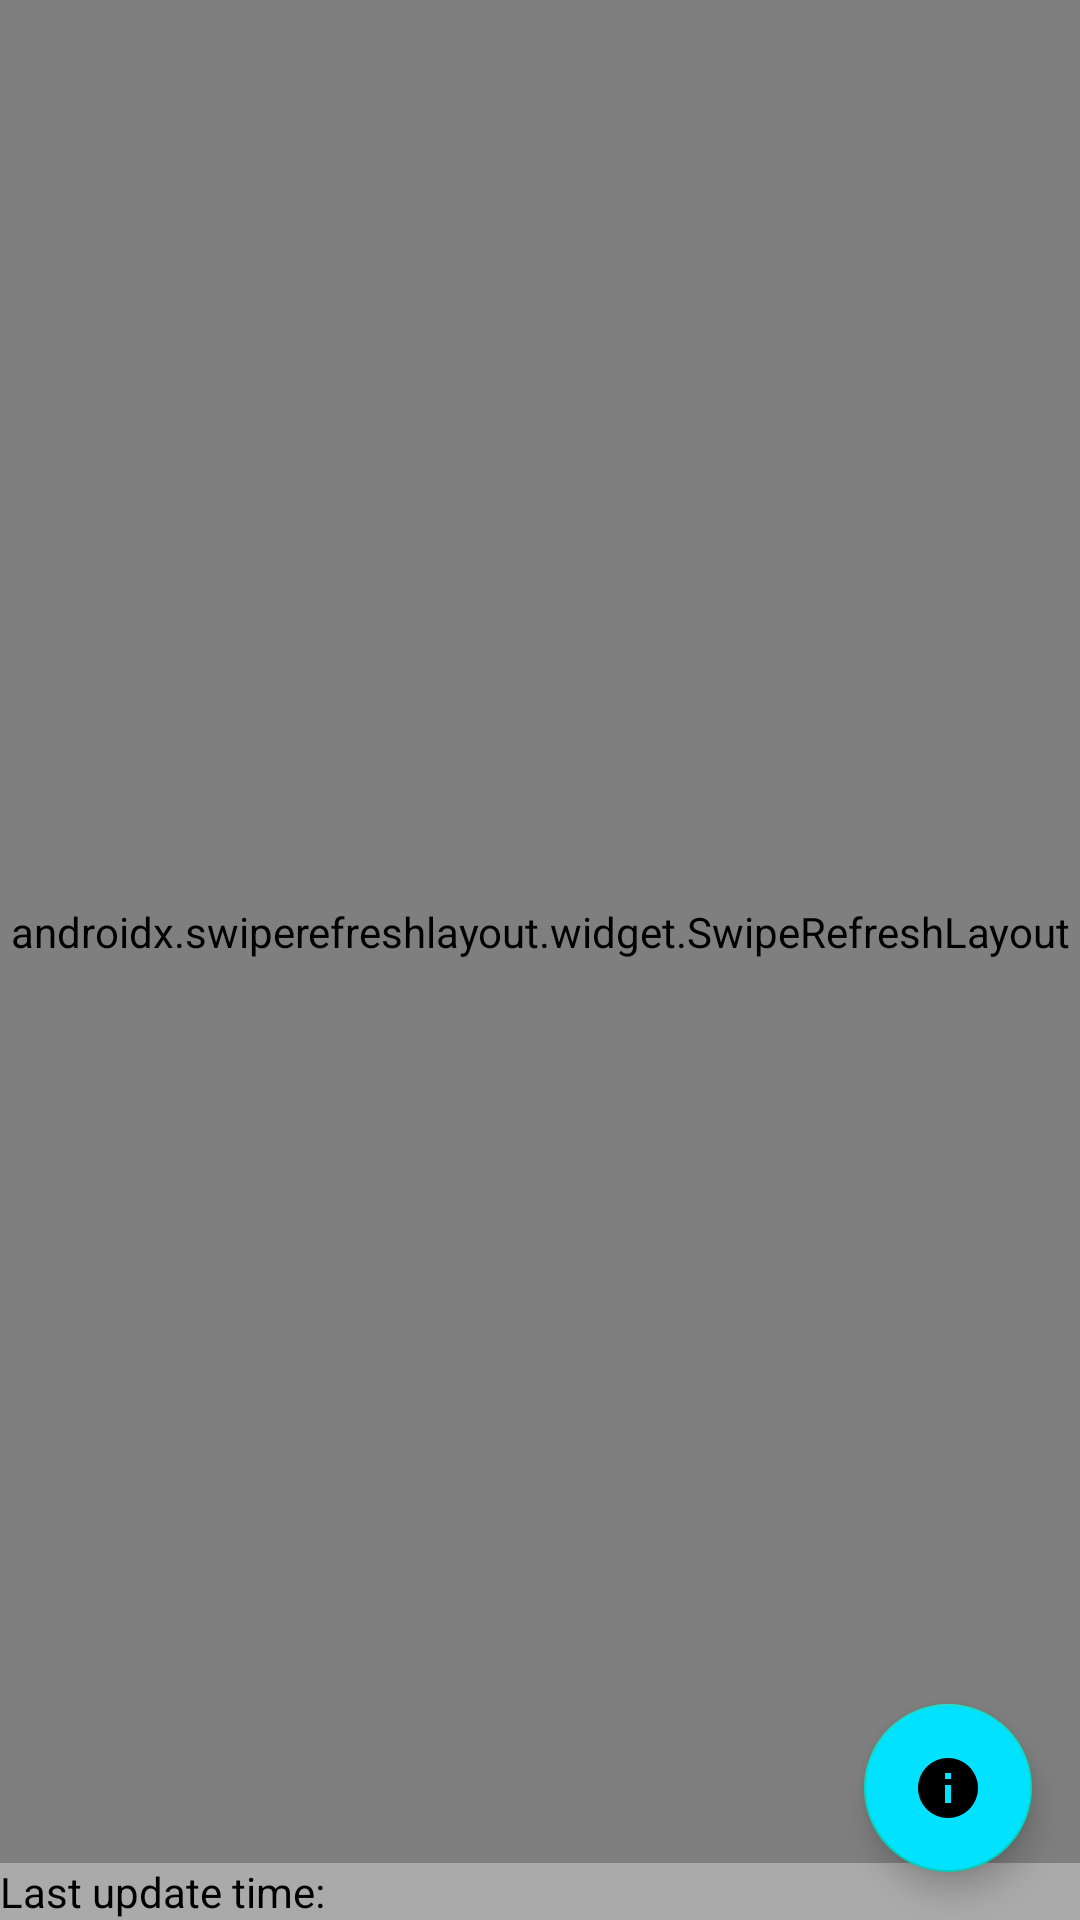

Icons on this 1080 x 1920 Android screen, each with its box as (x1, y1, x2, y2):
info: (864, 1704, 1032, 1872)
